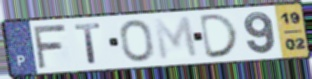9: (241, 9, 278, 56)
D: (198, 12, 242, 60)
F: (30, 23, 68, 70)
M: (152, 15, 201, 62)
O: (118, 18, 157, 63)
T: (72, 21, 104, 65)
